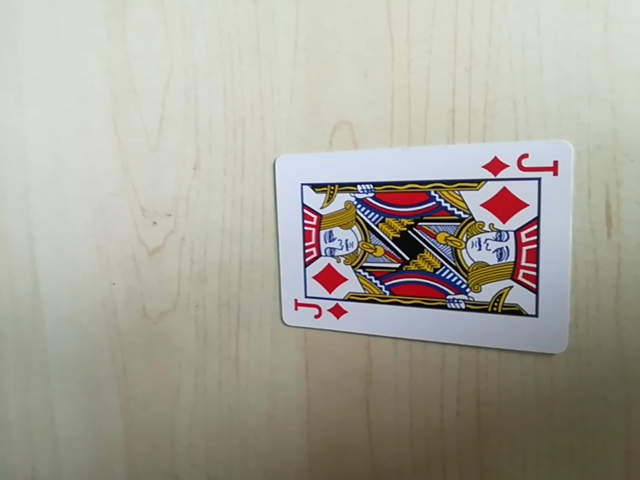fk j: (480, 151, 558, 181), (289, 296, 350, 326)
